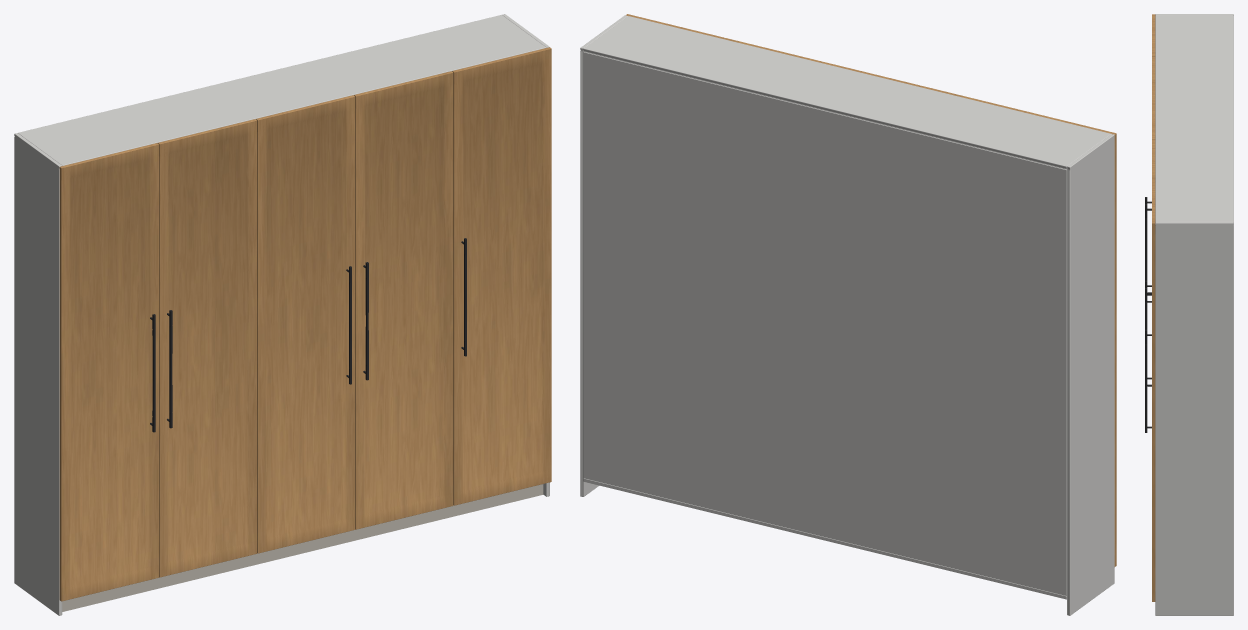
Rendered from wardrobe_5.glb.
3 views of the same model, side by side, from view 1: azimuth 30°, elevation 25°; view 2: azimuth 150°, elevation 25°; view 3: azimuth 270°, elevation 25° (orthographic). The views are drawn at different scales.
Parts seen in each view (by area): view 1: wardrobe_5_door_1, wardrobe_5_carcass, wardrobe_5_door_4, wardrobe_5_door_3, wardrobe_5_door_5, wardrobe_5_door_2, wardrobe_5_plinth; view 2: wardrobe_5_carcass, wardrobe_5_door_1; view 3: wardrobe_5_carcass, wardrobe_5_door_5, wardrobe_5_handle_5, wardrobe_5_handle_2, wardrobe_5_door_1, wardrobe_5_door_2, wardrobe_5_door_3, wardrobe_5_door_4, wardrobe_5_handle_4.
Boxes of the visible parts, box(x1,y1,x2,y2) form: wardrobe_5_door_1: box(59, 143, 158, 601); wardrobe_5_carcass: box(14, 14, 549, 615); wardrobe_5_door_4: box(354, 71, 453, 529); wardrobe_5_door_3: box(256, 95, 355, 553); wardrobe_5_door_5: box(452, 47, 551, 505); wardrobe_5_door_2: box(157, 119, 256, 577); wardrobe_5_plinth: box(62, 484, 543, 611); wardrobe_5_carcass: box(580, 15, 1114, 615); wardrobe_5_door_1: box(1018, 109, 1116, 566); wardrobe_5_carcass: box(1155, 14, 1233, 615); wardrobe_5_door_5: box(1152, 181, 1155, 601); wardrobe_5_handle_5: box(1145, 329, 1151, 432); wardrobe_5_handle_2: box(1145, 204, 1151, 302); wardrobe_5_door_1: box(1152, 14, 1155, 56); wardrobe_5_door_2: box(1152, 56, 1155, 97); wardrobe_5_door_3: box(1152, 98, 1155, 139); wardrobe_5_door_4: box(1152, 140, 1155, 181); wardrobe_5_handle_4: box(1145, 288, 1151, 386).
Bounding box in the file's own units: 2.63 × 2.3 × 0.471.
Materials: 4 (1 with a texture image).
